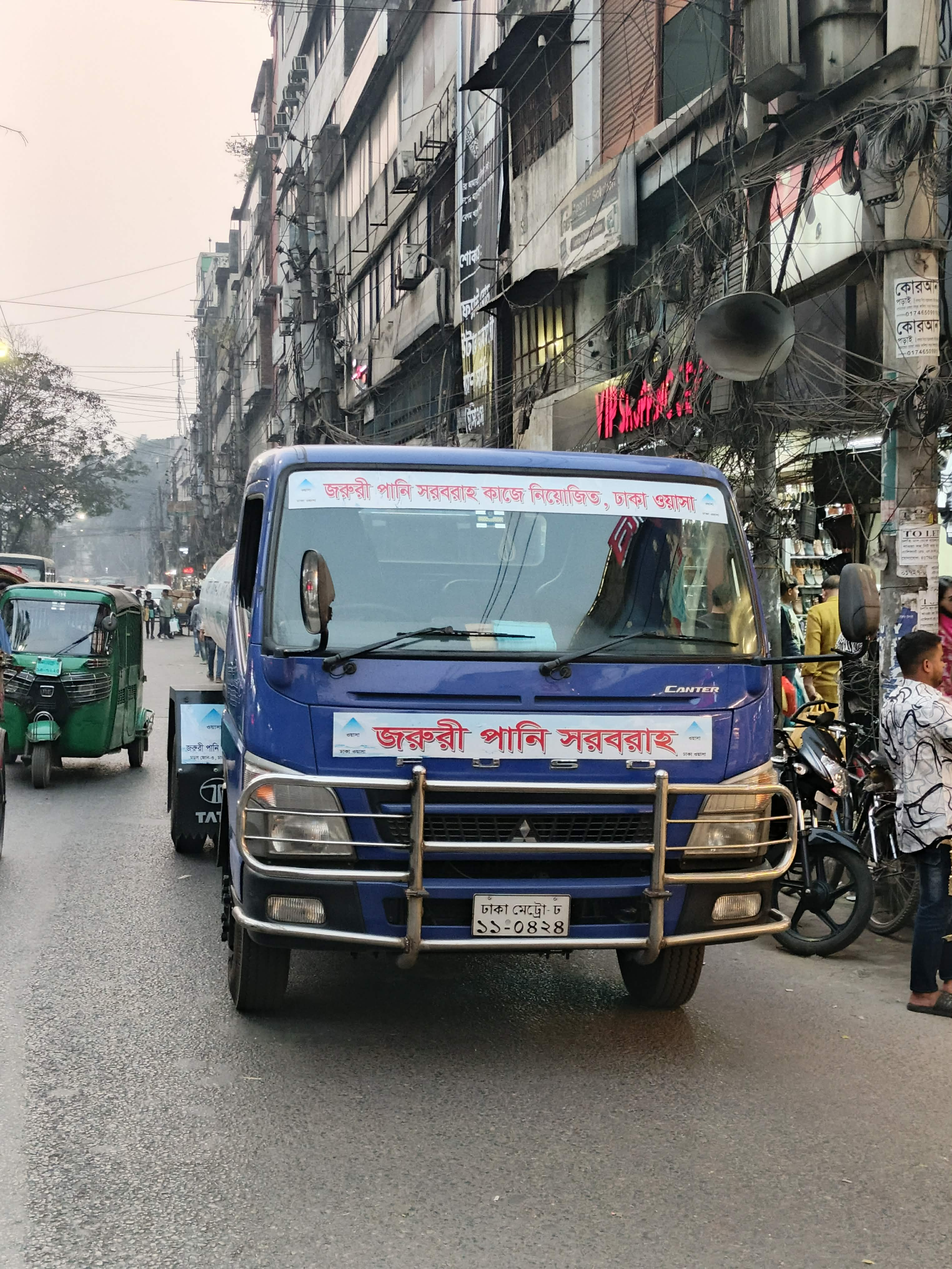Pickup: (200, 426, 812, 1001)
cng: (0, 557, 150, 818)
